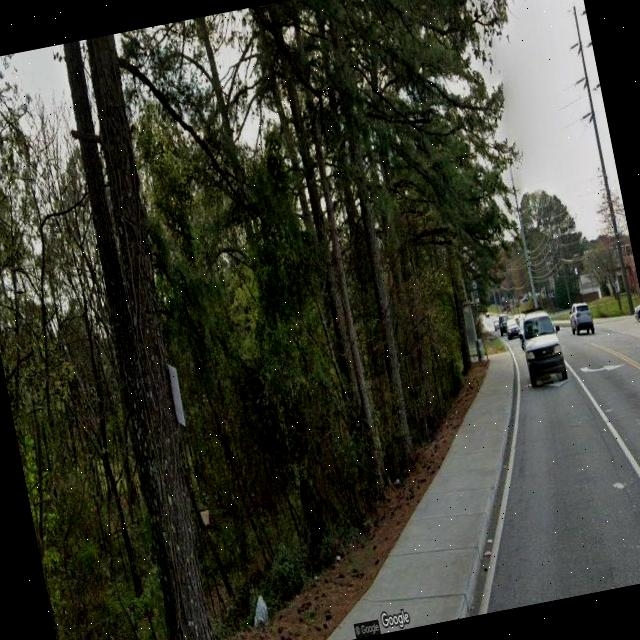shelter: (459, 296, 486, 361)
trash_can: (476, 338, 486, 362)
